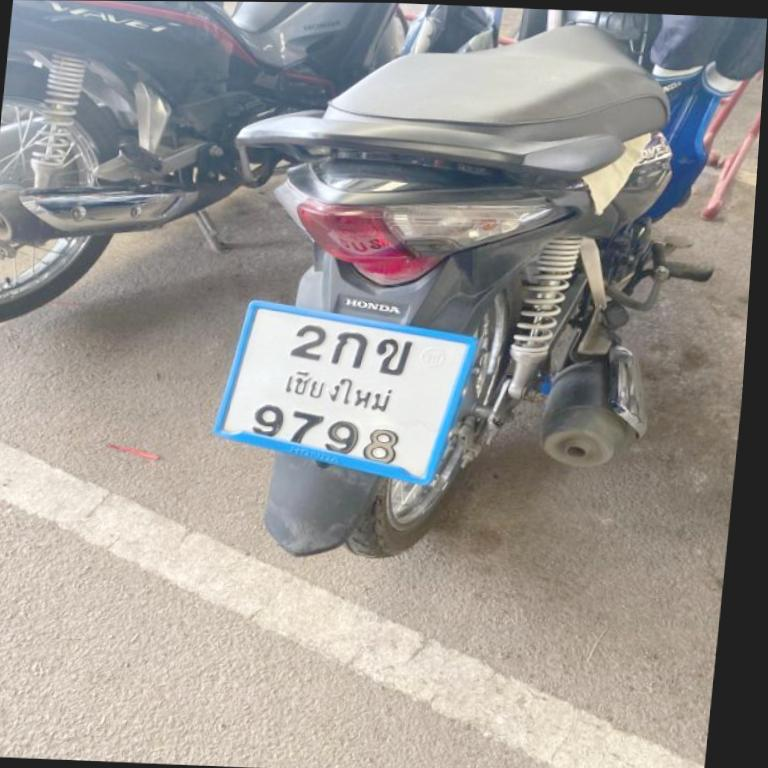license plate: (216, 302, 476, 484)
